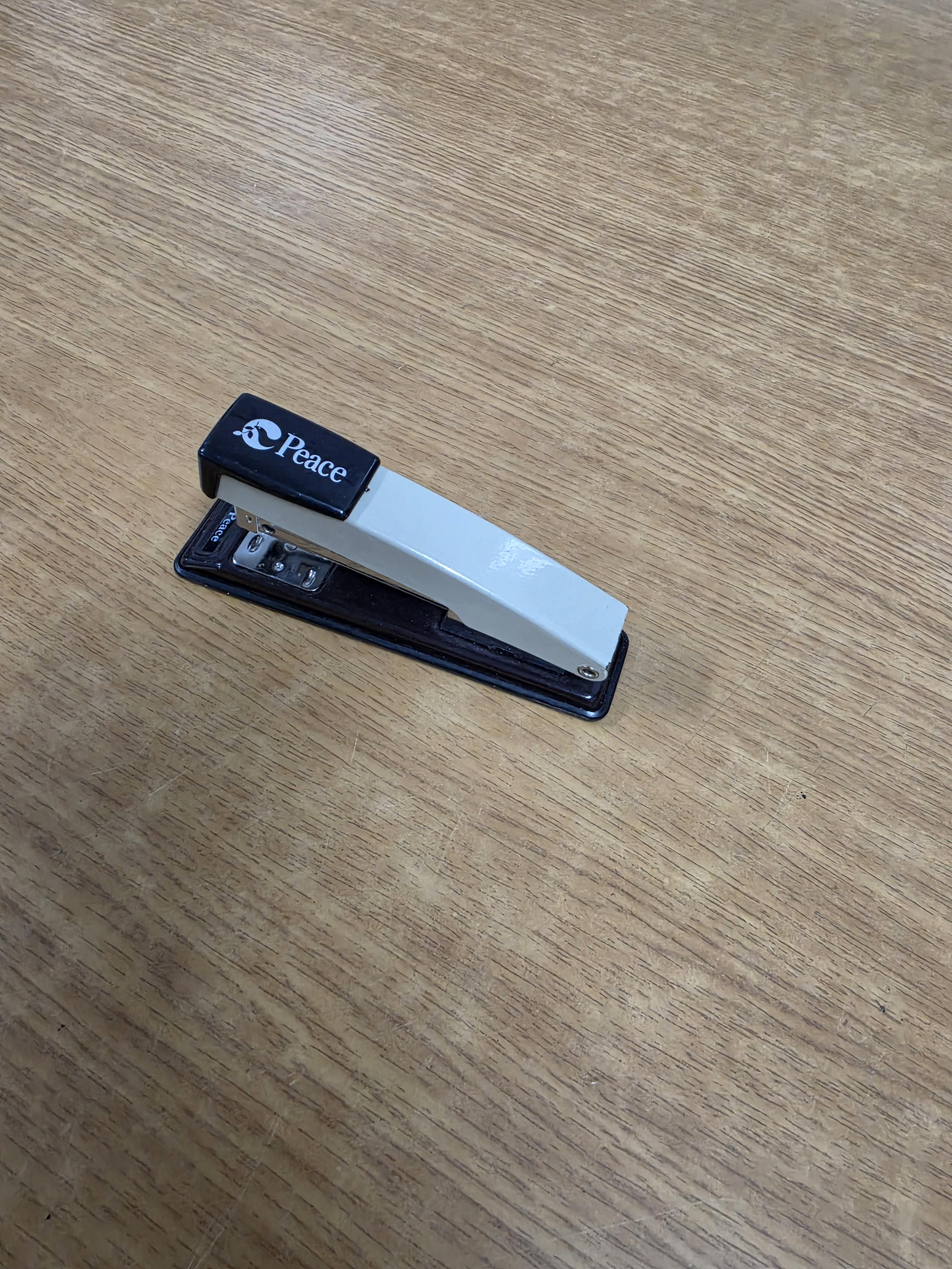stapler: (174, 393, 630, 723)
